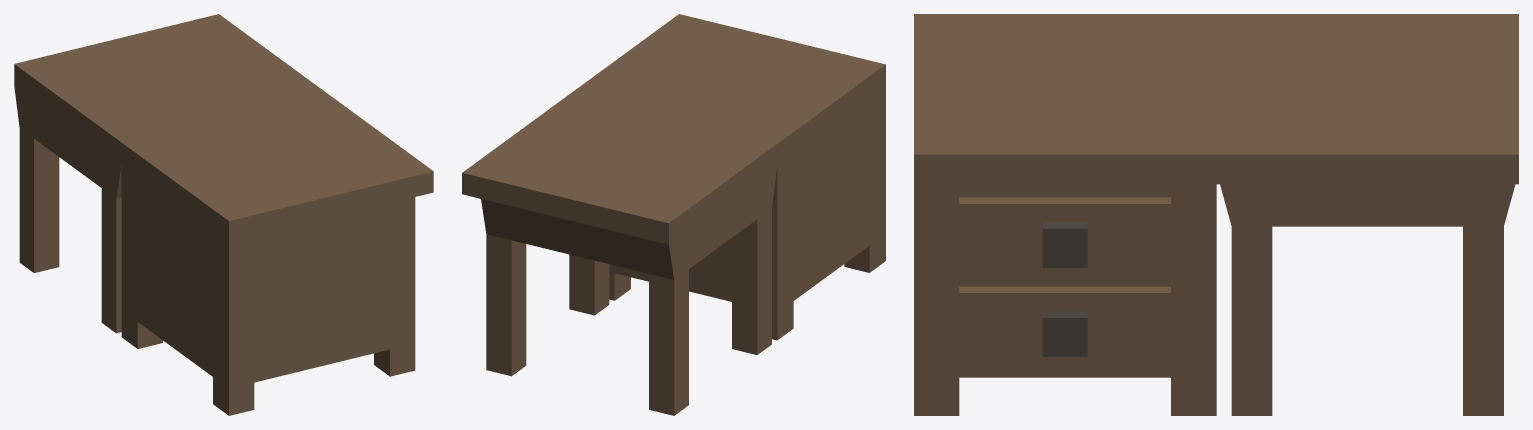
File: Drawer and Desk.fbx
3 views of the same model, side by side, from view 1: azimuth 30°, elevation 25°; view 2: azimuth 150°, elevation 25°; view 3: azimuth 270°, elevation 25° (orthographic). The views are drawn at different scales.
Visible parts, largest first — view 1: geo_Drawer_and_Desk; view 2: geo_Drawer_and_Desk; view 3: geo_Drawer_and_Desk.
Part boxes in pixels (x1,y1,x2,y2): geo_Drawer_and_Desk: [14, 14, 433, 415]; geo_Drawer_and_Desk: [462, 14, 885, 415]; geo_Drawer_and_Desk: [914, 14, 1518, 415].
Size of the model in its own units: 1.1 by 1 by 2.
